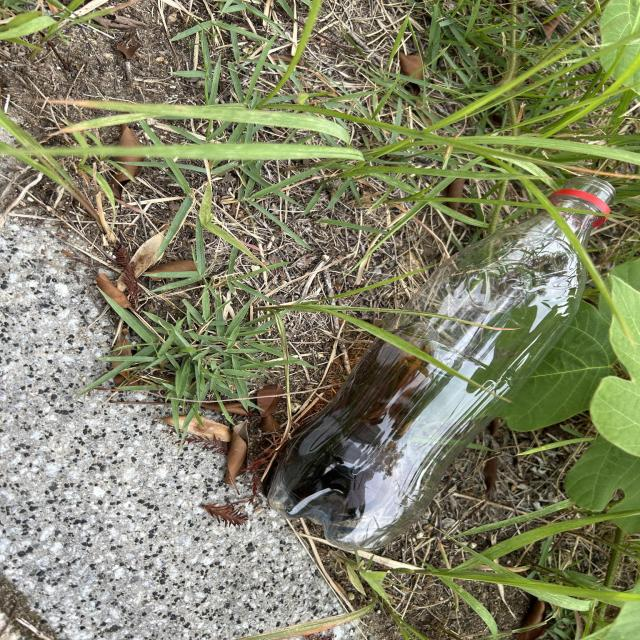low: (268, 212, 585, 550)
